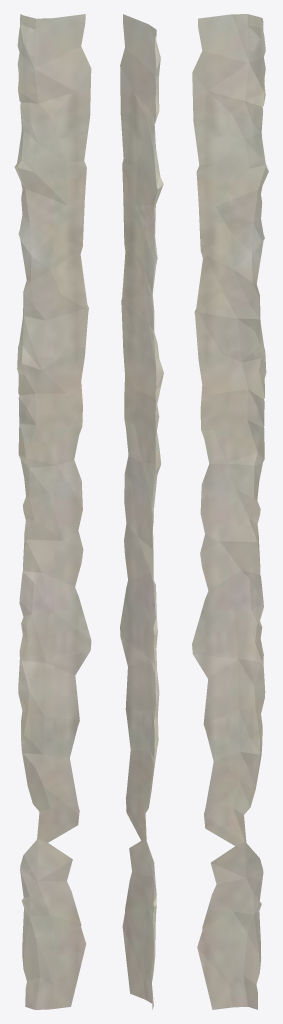
Rendered from Tile__001__005_L22_00030200.glb.
3 views of the same model, side by side, from view 1: azimuth 90°, elevation 25°; view 2: azimuth 210°, elevation 25°; view 3: azimuth 270°, elevation 25° (orthographic).
Visible parts, largest first — view 1: root; view 2: root; view 3: root.
Boxes of the visible parts, box(x1,y1,x2,y2) form: root: box(14, 14, 91, 1009); root: box(120, 14, 163, 1009); root: box(192, 14, 268, 1009).
Size of the model in its own units: 0.1754 by 13.99 by 0.9834.
1 material, 1 textured.
